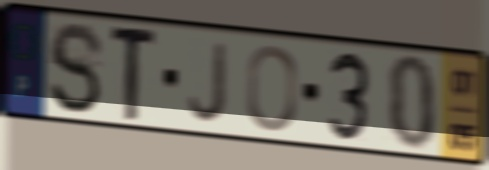0: (380, 51, 440, 153)
3: (325, 49, 372, 144)
J: (186, 39, 232, 126)
O: (244, 42, 300, 134)
S: (47, 18, 107, 118)
T: (108, 25, 160, 124)
